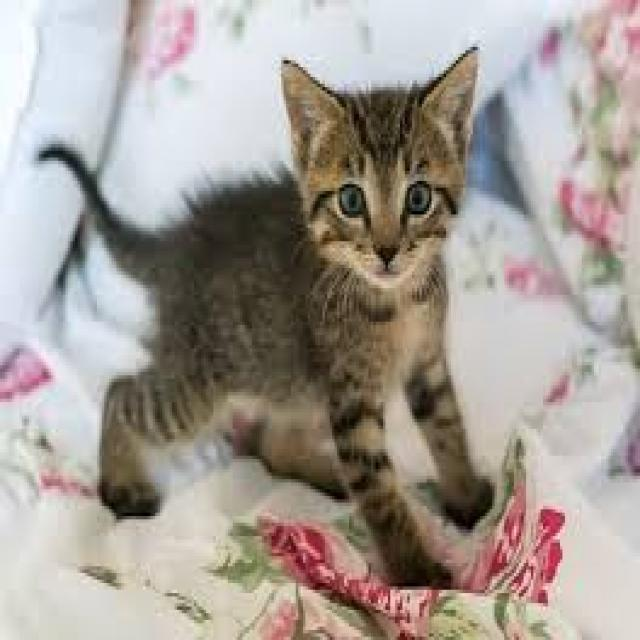Cat: (35, 40, 502, 592)
